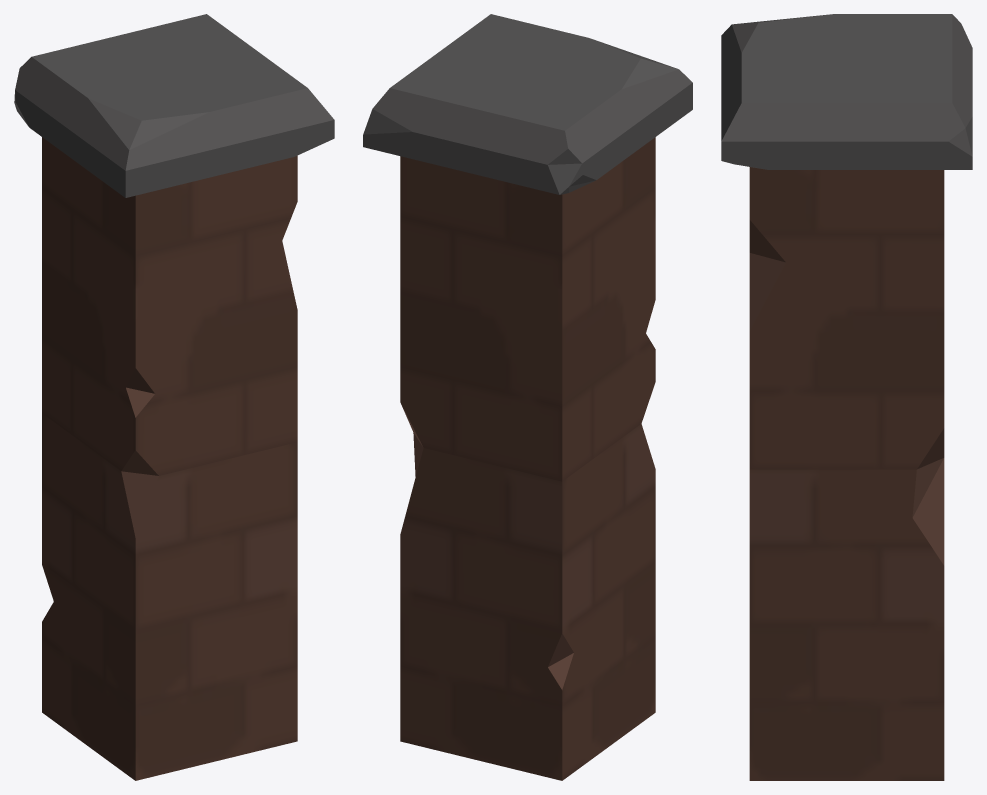
File: SM_Prop_Wall_Brick_Pillar_01.obj
3 renders of one model, left to right at view 1: azimuth 30°, elevation 25°; view 2: azimuth 150°, elevation 25°; view 3: azimuth 270°, elevation 25°, orthographic. The views are drawn at different scales.
Visible parts, largest first — view 1: SM_Prop_Wall_Brick_Pillar_01_0; view 2: SM_Prop_Wall_Brick_Pillar_01_0; view 3: SM_Prop_Wall_Brick_Pillar_01_0.
Boxes of the visible parts, bbox=[...] form: SM_Prop_Wall_Brick_Pillar_01_0: bbox=[14, 14, 334, 780]; SM_Prop_Wall_Brick_Pillar_01_0: bbox=[363, 14, 692, 780]; SM_Prop_Wall_Brick_Pillar_01_0: bbox=[721, 14, 972, 780].
Size of the model in its own units: 0.6197 by 1.85 by 0.6197.
1 material, 1 textured.
